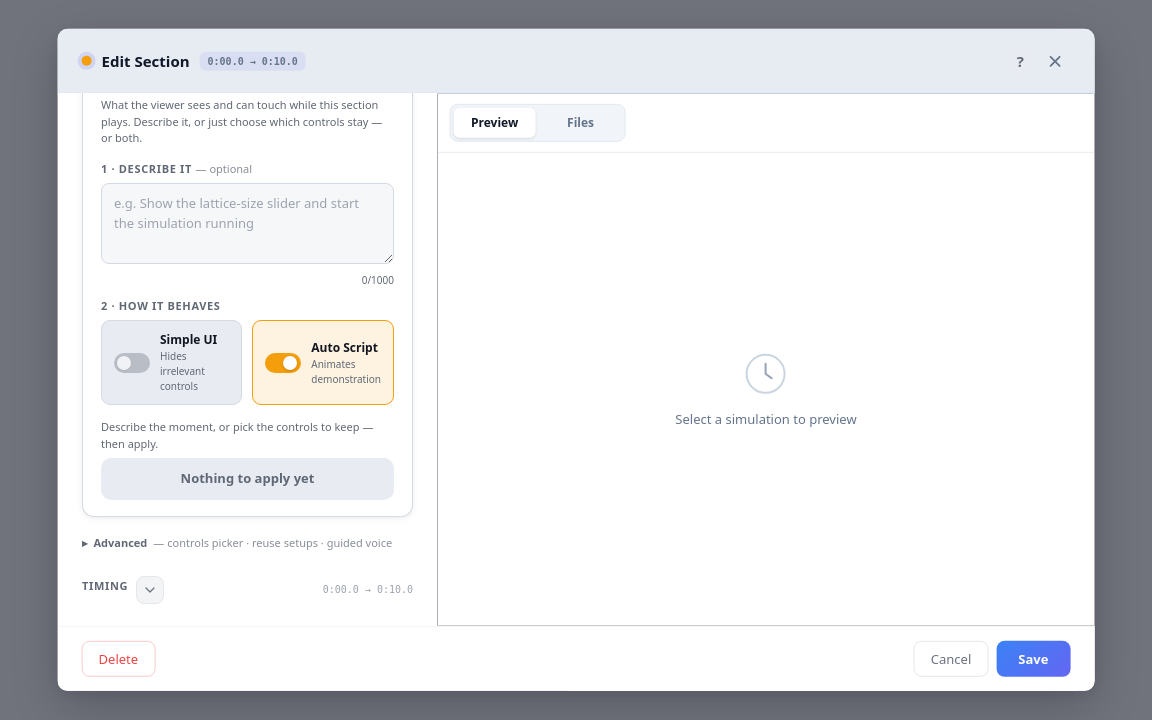
Scenario: the preset dialogs are actually visible when opened › the Save button is enabled when the section HAS a generated setup
(page scrolled)
Click the button "▸ Advanced — controls picker · reuse setups · guided voice".
click(237, 543)  # box [82,533,392,553]
(page scrolled)
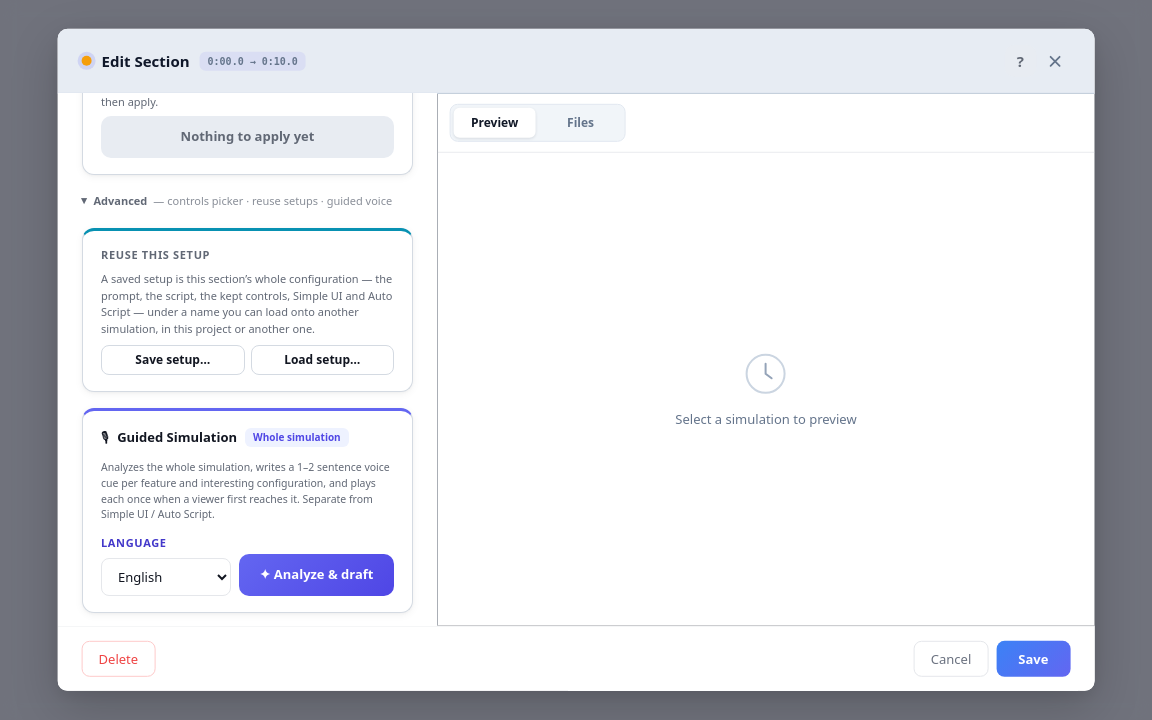
Expected: the button "Save setup…" is enabled, [101,345,244,375]
